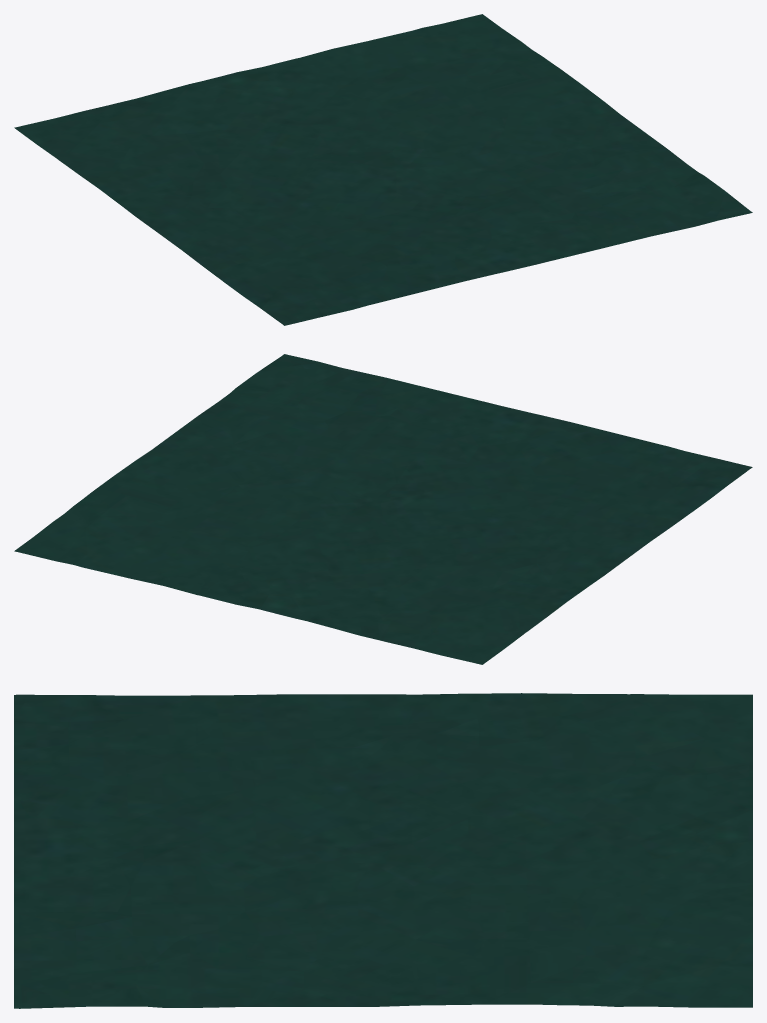
3 views of the same model, one above another, from view 1: azimuth 30°, elevation 25°; view 2: azimuth 150°, elevation 25°; view 3: azimuth 270°, elevation 25° (orthographic). The views are drawn at different scales.
Size of the model in its own units: 52.22 by 0.4799 by 52.22.
Materials: 3 (3 with a texture image).
